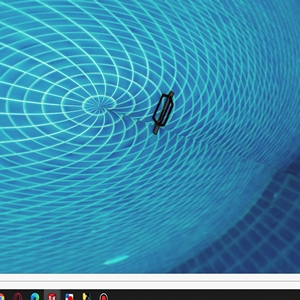submarine: (155, 90, 174, 135)
